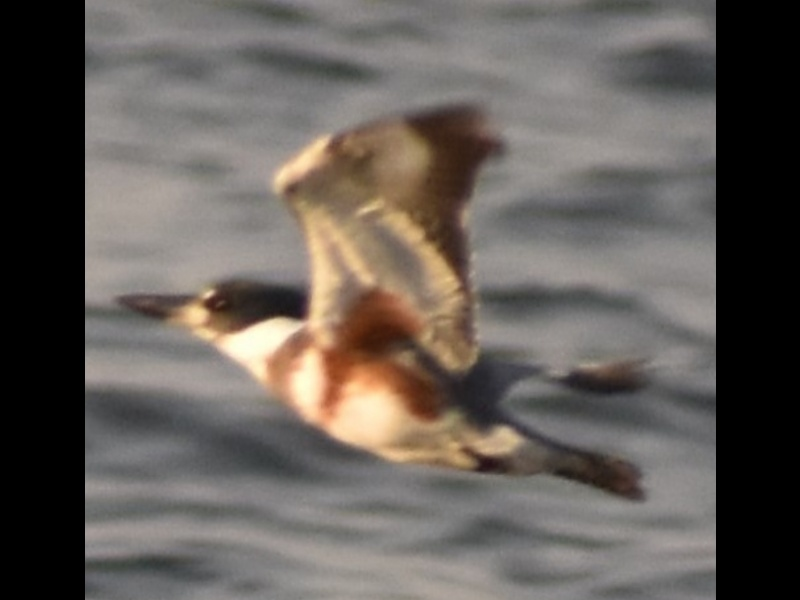kingfisher: (113, 97, 656, 505)
